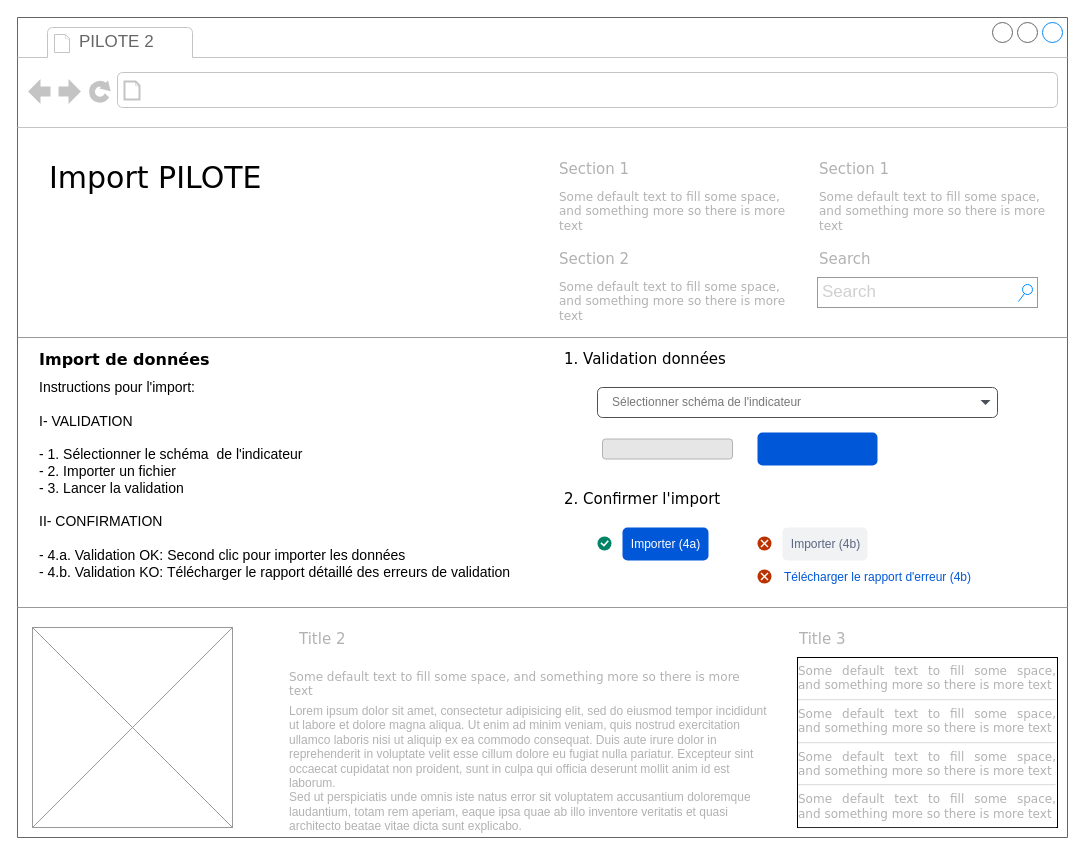
Image size: 1085x855. Some labels were removed from this diagram. The shapes that lost their labels are listed below. From the top down, each one's centre as x and y in pixels, then its label:
the point at 272,90: https://www.pilote.modernisation.gouv.fr
the point at 667,448: Importer un fichier
the point at 817,448: Valider le fichier
